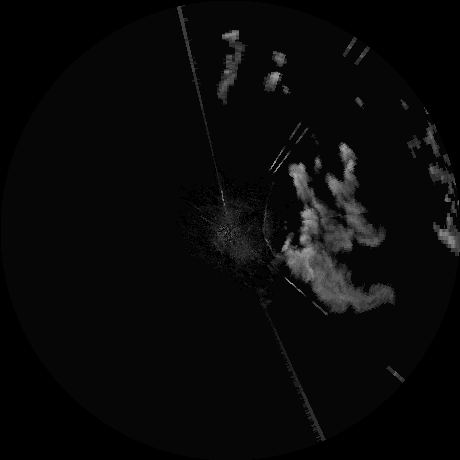frontgust: (261, 205, 280, 256)
